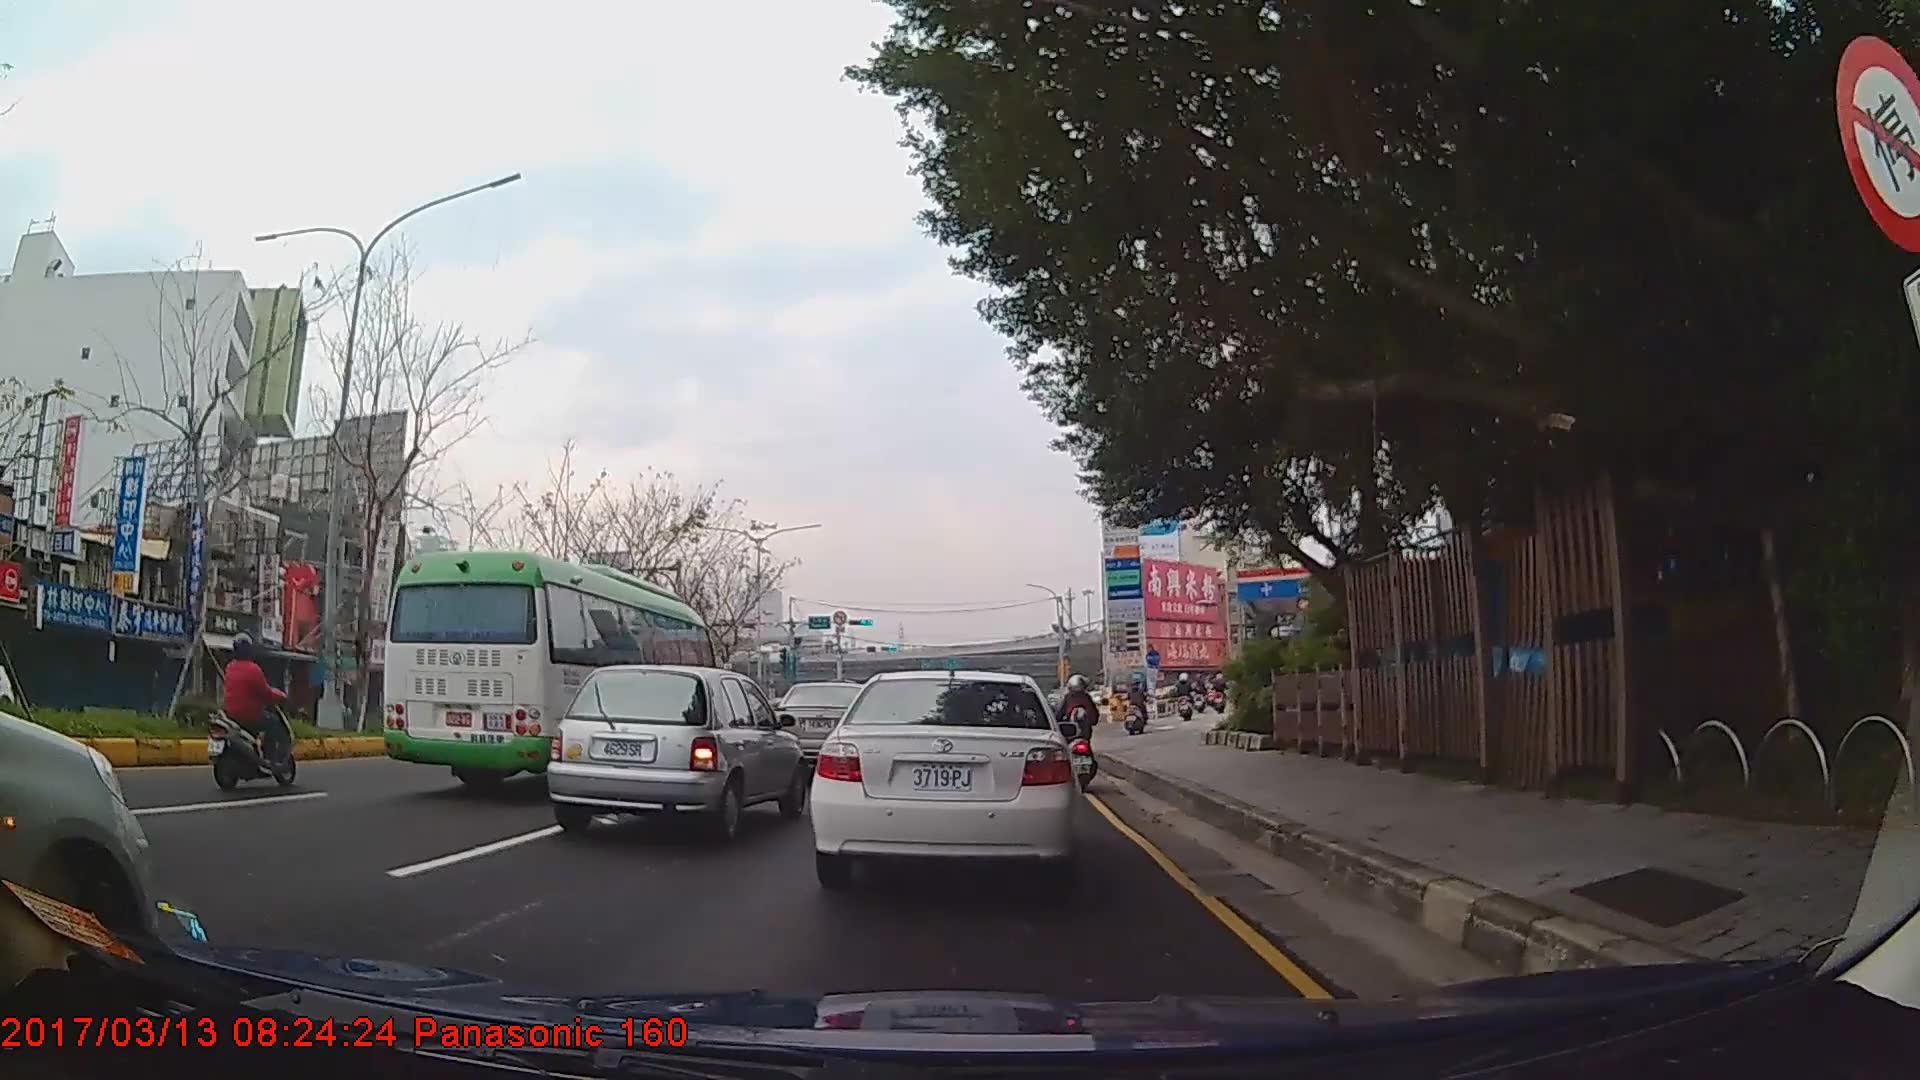rider: (200, 629, 295, 794), (1060, 673, 1100, 788), (1125, 678, 1147, 734), (1174, 671, 1194, 721)
vehicle: (373, 545, 717, 796), (806, 667, 1083, 891), (546, 661, 807, 843), (771, 681, 888, 777)
